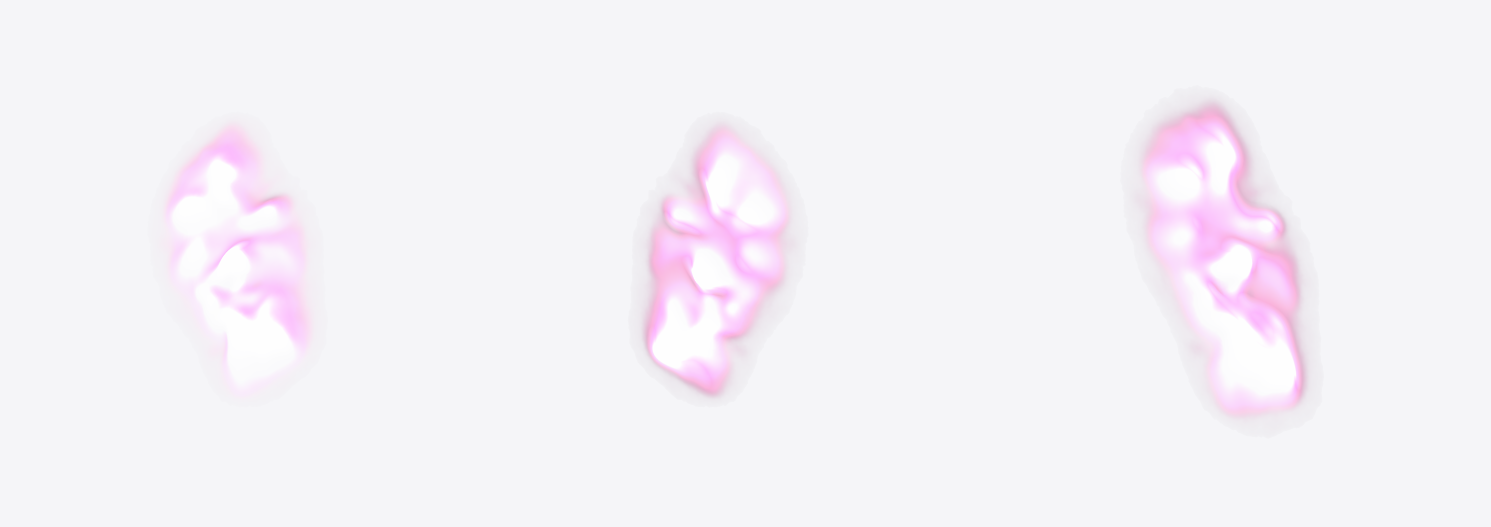
The model's file is catseye_xray.glb.
The picture shows the model from 3 angles, left to right: view 1: azimuth 30°, elevation 25°; view 2: azimuth 150°, elevation 25°; view 3: azimuth 330°, elevation 25°; orthographic projection. The views are drawn at different scales.
Parts seen in each view (by area): view 1: Chandra xray_Baked; view 2: Chandra xray_Baked; view 3: Chandra xray_Baked.
Part boxes in pixels (box(x1,y1,x2,y2)): Chandra xray_Baked: box(161, 121, 313, 397); Chandra xray_Baked: box(641, 122, 794, 398); Chandra xray_Baked: box(1136, 99, 1308, 419).
Size of the model in its own units: 6.85 by 6.85 by 0.41.
1 material, 1 textured.
